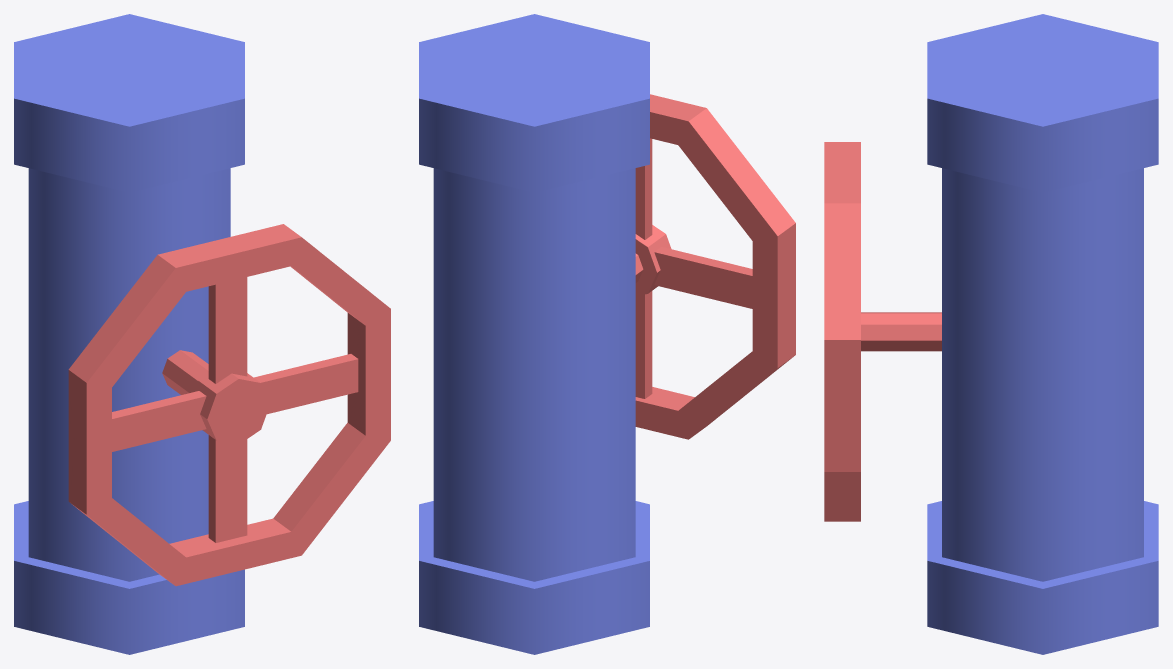
Rendered from SM_Pipe_Wheel.fbx.
3 views of the same model, side by side, from view 1: azimuth 30°, elevation 25°; view 2: azimuth 150°, elevation 25°; view 3: azimuth 270°, elevation 25° (orthographic).
Parts seen in each view (by area): view 1: Cylinder011; view 2: Cylinder011; view 3: Cylinder011.
Boxes of the visible parts, bbox=[...] form: Cylinder011: bbox=[14, 14, 390, 654]; Cylinder011: bbox=[419, 14, 795, 654]; Cylinder011: bbox=[824, 14, 1158, 654].
Bounding box in the file's own units: 24.11 × 40 × 22.92.
